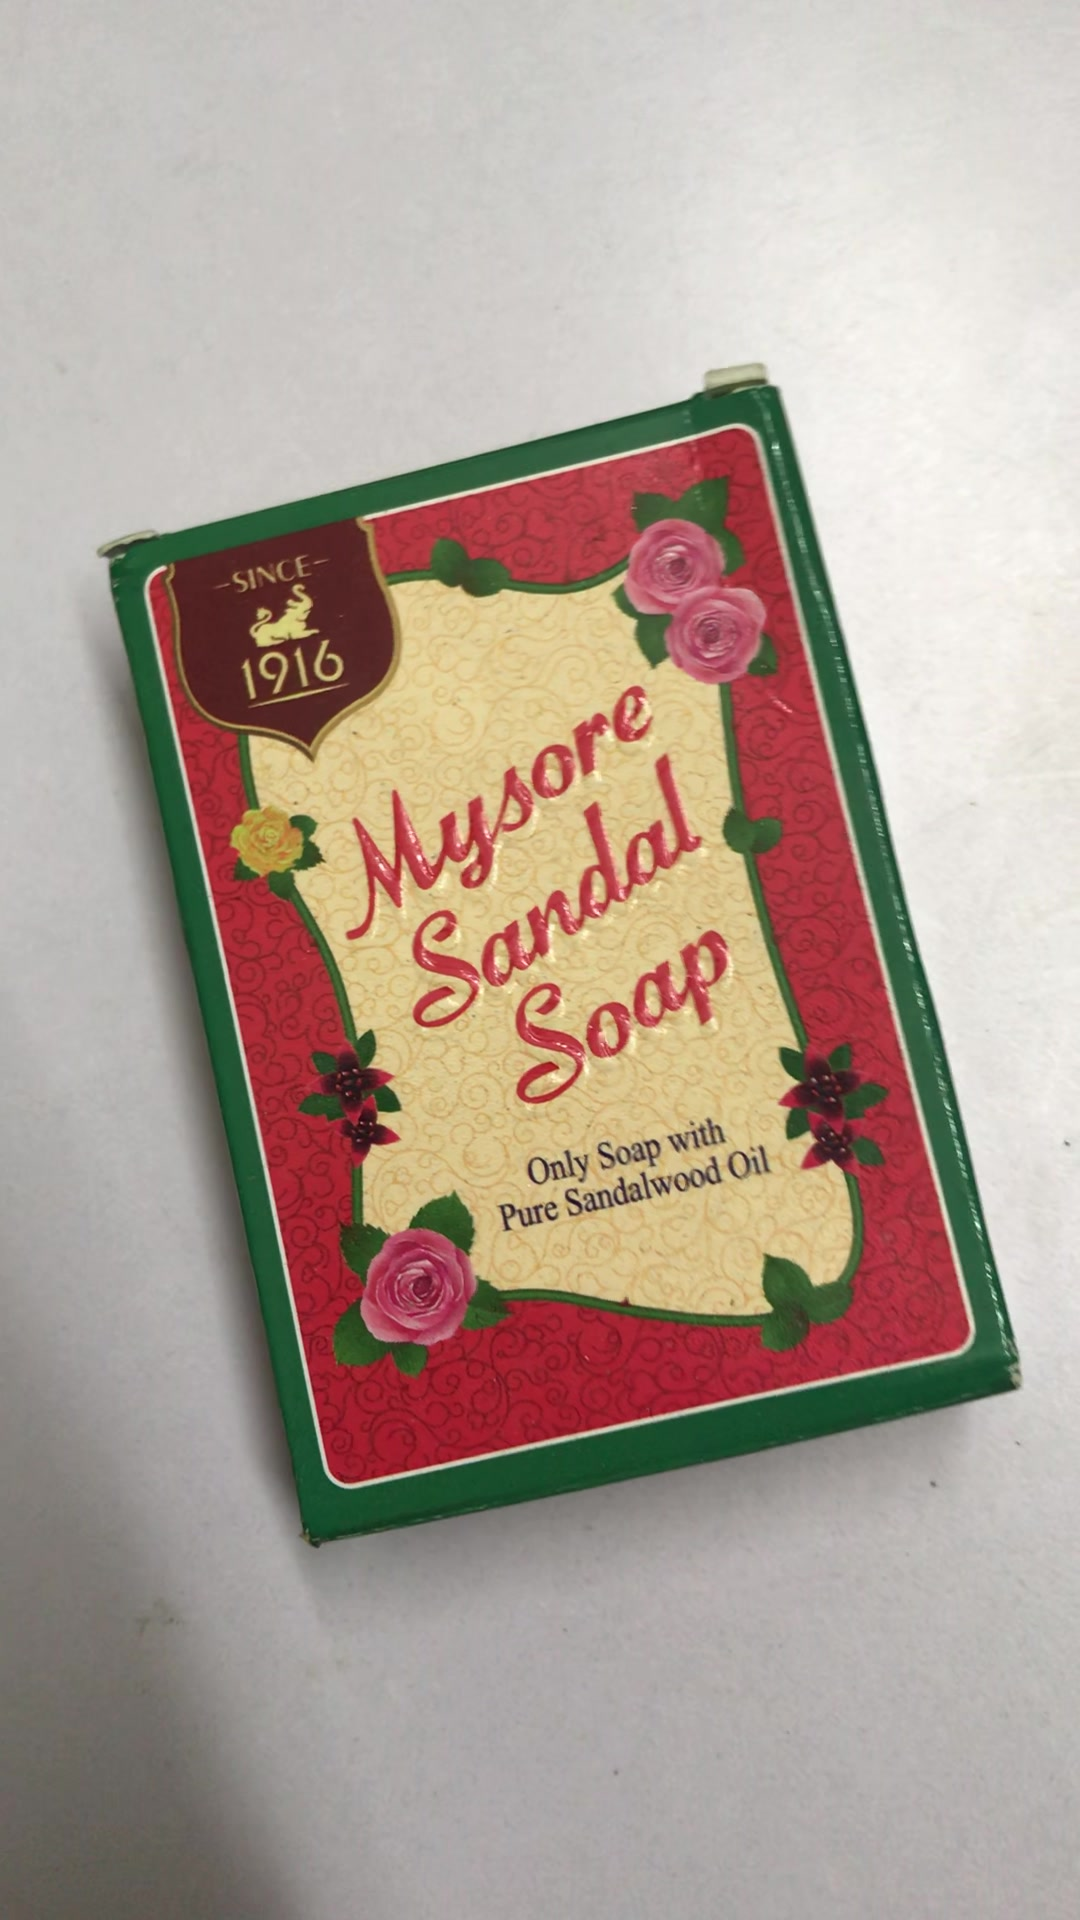mysore sandal soap: (109, 373, 1026, 1549)
